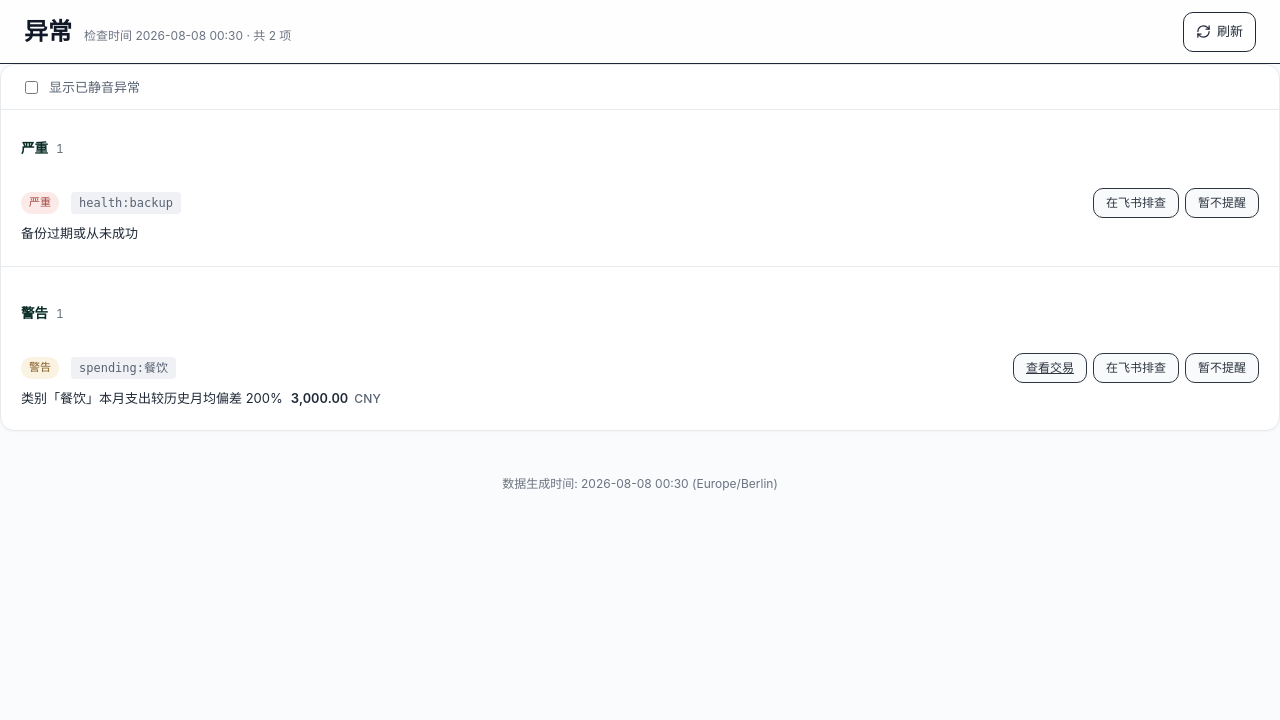
Test case: AlertsPage › 静音操作不发起任何写请求（只读观察层约束）
Expected: the element with class "anomaly-list" is shown, [0, 64, 1279, 431]
Click the button "暂不提醒" in the row of "health:backup".
click(1222, 203)  # box [1185, 188, 1259, 218]
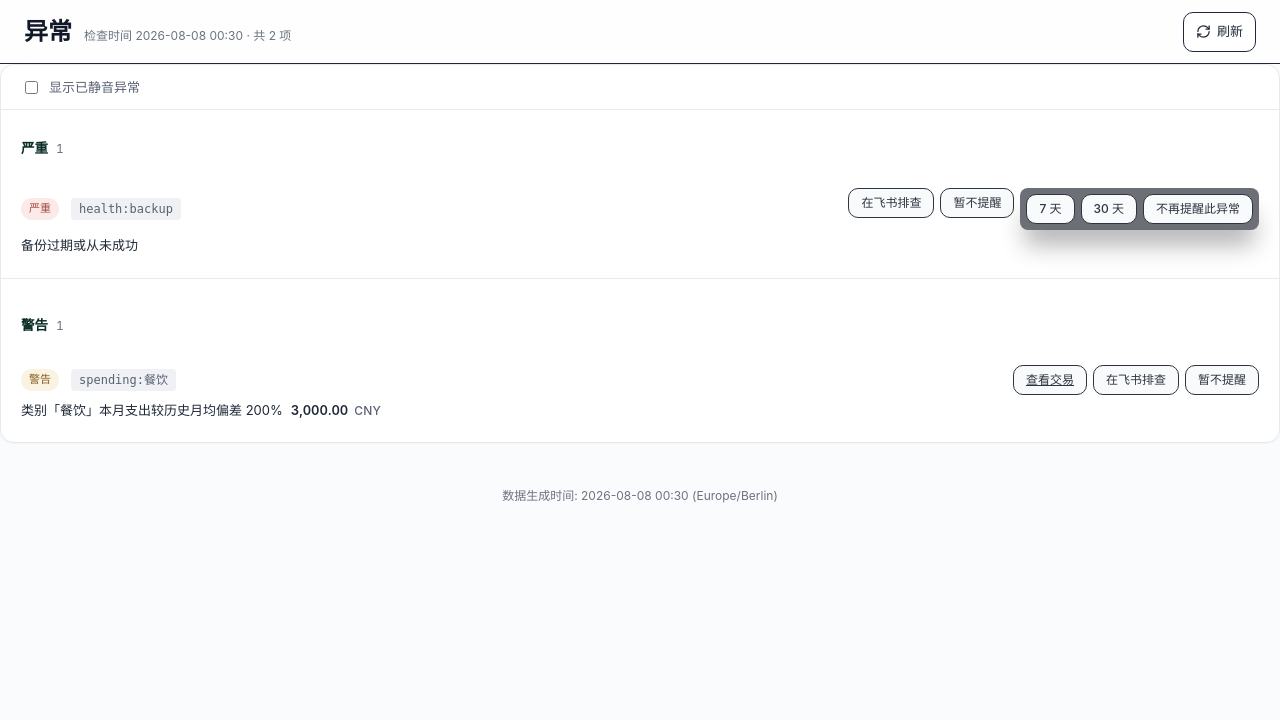
Click the menu item "不再提醒此异常".
click(1198, 209)  # box [1143, 194, 1253, 224]
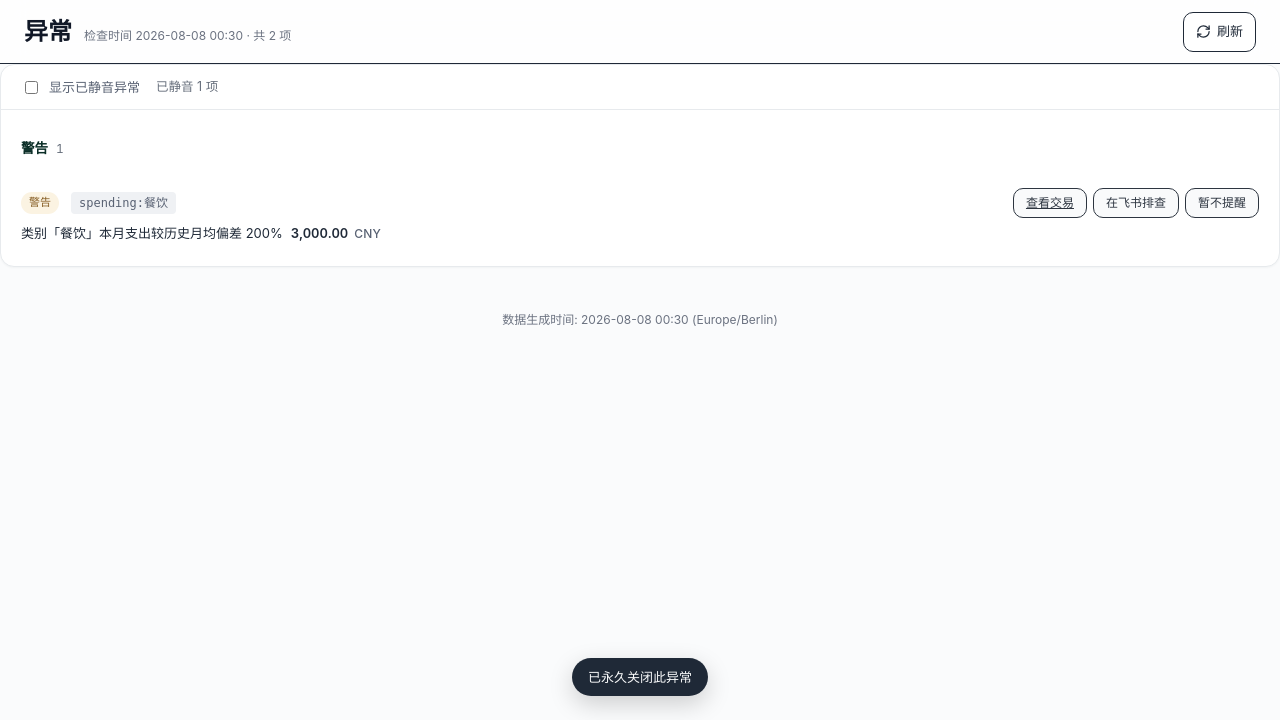
Result: the text "备份过期或从未成功" is gone
